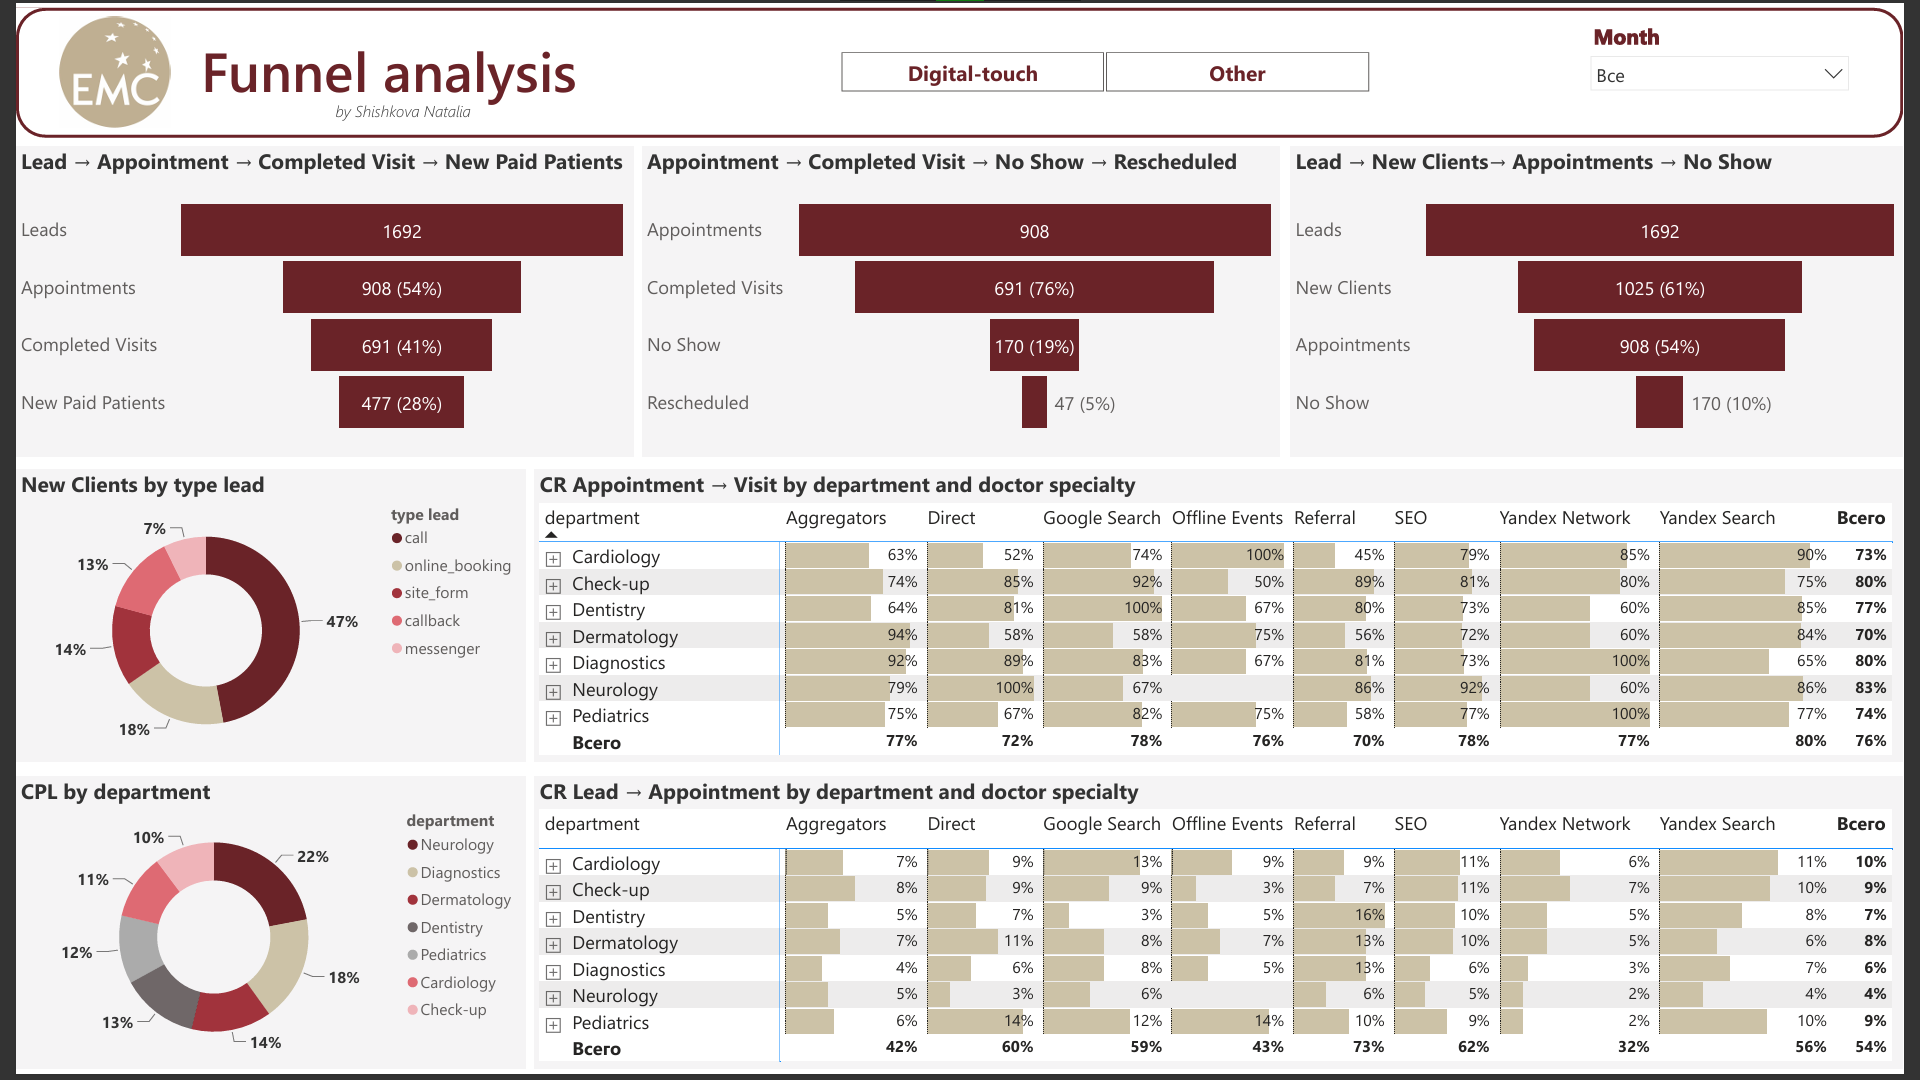

The dashboard page shown, as its layout file describes it:
{"tool":"powerbi","page":{"name":"EMC_2","canvas":[1920,1080],"ordinal":1},"visuals":[{"type":"shape","box":[0,0,1920.3,132],"z":0},{"type":"textbox","box":[152.2,4,484.8,122.5],"z":1000},{"type":"textbox","box":[320.5,88.9,158.9,37.7],"z":2000},{"type":"image","box":[35,9.4,130.6,113.1],"z":3000},{"type":"funnel","title":"Lead → Appointment → Completed Visit → New Paid Patients","fields":{"Y":["leads.Leads","appointments.Appointments","appointments.Completed Visits","revenue.New Paid Patients"]},"box":[0,141.4,627.5,316.5],"z":4000},{"type":"pivotTable","title":"CR Lead → Appointment by department and doctor specialty","fields":{"Rows":["appointments.department","appointments.doctor_specialty"],"Values":["appointments.CR Lead to Appointment"],"Columns":["leads.channel"]},"box":[527.9,782.4,1392.4,297.6],"z":5000},{"type":"pivotTable","title":"CR Appointment → Visit by department and doctor specialty","fields":{"Rows":["appointments.department","appointments.doctor_specialty"],"Columns":["leads.channel"],"Values":["appointments.CR Appointment to Visit"]},"box":[527.9,470,1392.4,297.6],"z":6000},{"type":"donutChart","title":"New Clients by type lead","fields":{"Category":["leads.lead_type"],"Y":["leads.New Leads"]},"box":[0,470,518.5,297.6],"z":7000},{"type":"donutChart","title":"CPL by department","fields":{"Y":["leads.CPL"],"Category":["leads.department"]},"box":[0,782.4,518.5,297.6],"z":8000},{"type":"funnel","title":"Lead → New Clients→ Appointments  → No Show","fields":{"Y":["leads.Leads","leads.New Leads","appointments.Appointments","appointments.No Show"]},"box":[1296.8,141.4,623.5,316.5],"z":9000},{"type":"funnel","title":"Appointment → Completed Visit → No Show → Rescheduled ","fields":{"Y":["appointments.Appointments","appointments.Completed Visits","appointments.No Show","appointments.Rescheduled"]},"box":[637,141.4,649.1,316.5],"z":10000},{"type":"slicer","title":"Date","fields":{"Values":["calendar.Месяц"]},"box":[1591.7,9.4,282.8,98.3],"z":11000},{"type":"slicer","fields":{"Values":["marketing_catalog.traffic_segment"]},"box":[814.1,37.9,586.5,54],"z":12000}]}

Visuals, with their boxes in screenshot pixels (x1, y1, x2, y2), scaled from the page's 1920x1080 canvas onto the 1920x1080 screenshot:
shape: {"x1": 0, "y1": 0, "x2": 1919, "y2": 132}
textbox: {"x1": 152, "y1": 4, "x2": 637, "y2": 126}
textbox: {"x1": 320, "y1": 89, "x2": 479, "y2": 127}
image: {"x1": 35, "y1": 9, "x2": 166, "y2": 122}
"Lead → Appointment → Completed Visit → New Paid Patients" funnel: {"x1": 0, "y1": 141, "x2": 628, "y2": 458}
"CR Lead → Appointment by department and doctor specialty" pivotTable: {"x1": 528, "y1": 782, "x2": 1919, "y2": 1079}
"CR Appointment → Visit by department and doctor specialty" pivotTable: {"x1": 528, "y1": 470, "x2": 1919, "y2": 768}
"New Clients by type lead" donutChart: {"x1": 0, "y1": 470, "x2": 518, "y2": 768}
"CPL by department" donutChart: {"x1": 0, "y1": 782, "x2": 518, "y2": 1079}
"Lead → New Clients→ Appointments  → No Show" funnel: {"x1": 1297, "y1": 141, "x2": 1919, "y2": 458}
"Appointment → Completed Visit → No Show → Rescheduled " funnel: {"x1": 637, "y1": 141, "x2": 1286, "y2": 458}
"Date" slicer: {"x1": 1592, "y1": 9, "x2": 1874, "y2": 108}
slicer - marketing_catalog.traffic_segment: {"x1": 814, "y1": 38, "x2": 1401, "y2": 92}
